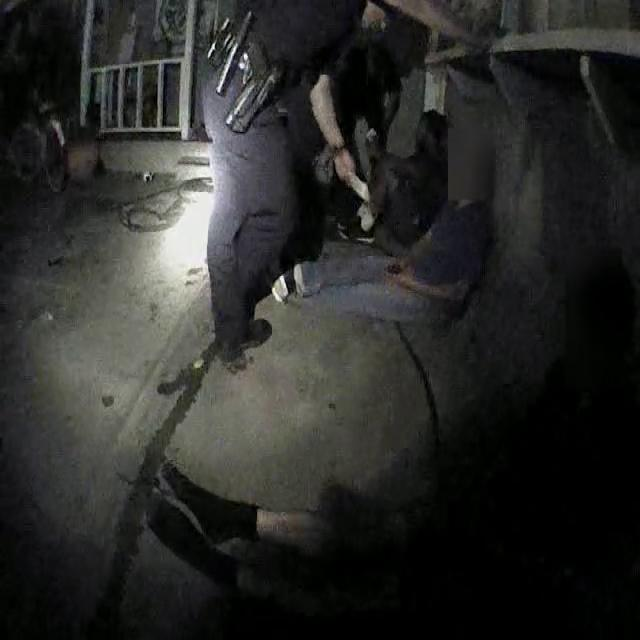gun: (220, 30, 291, 144)
